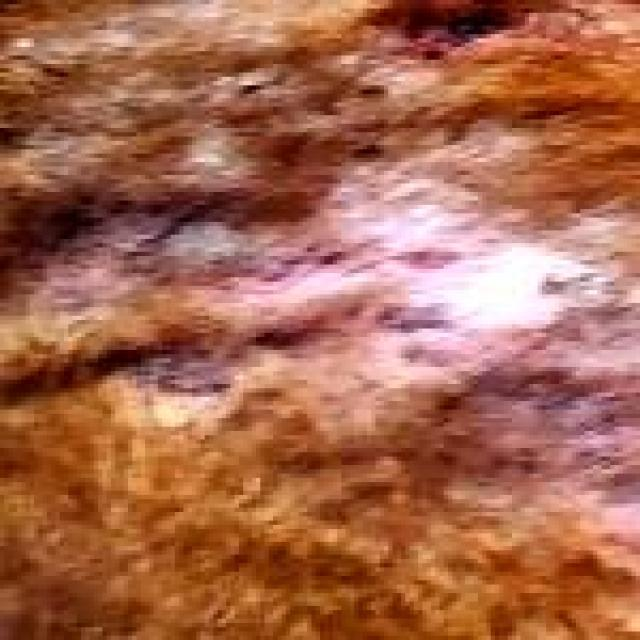fungal infection: (46, 190, 478, 398), (482, 367, 640, 500), (359, 0, 541, 59), (530, 266, 640, 360)
